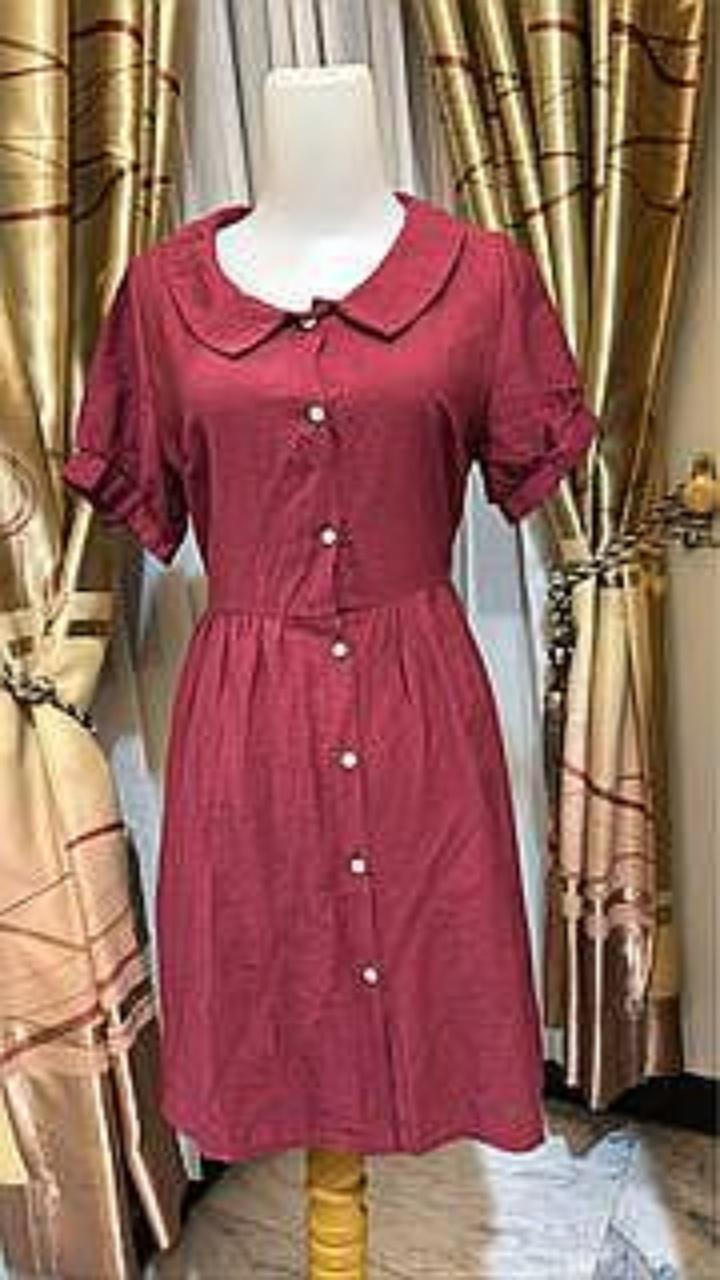Dresses: (64, 192, 596, 1159)
